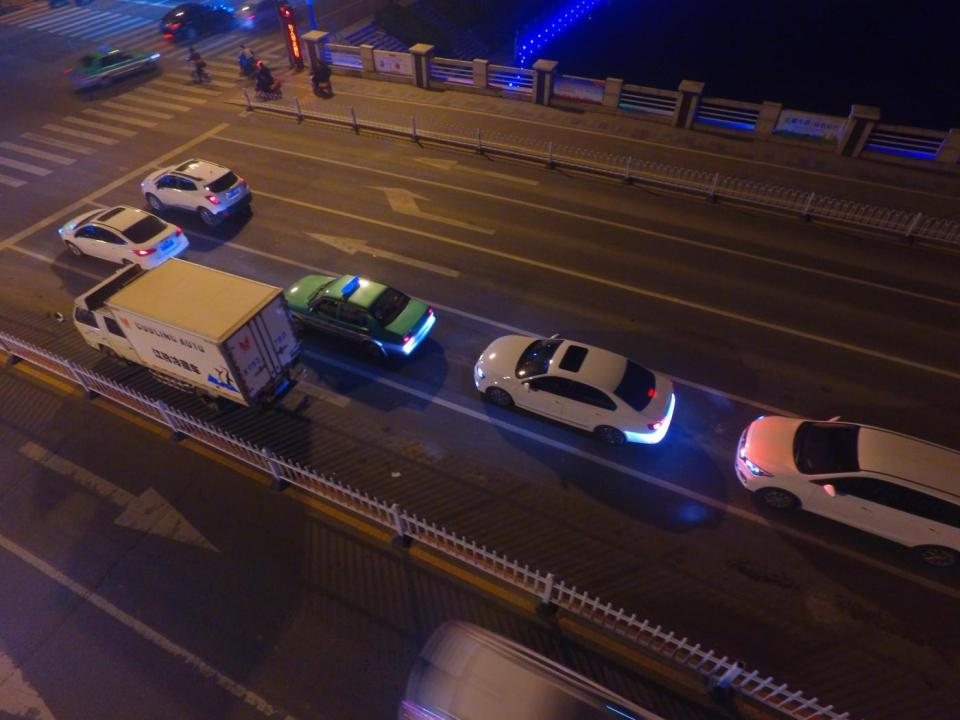car: (733, 408, 960, 569), (473, 333, 676, 445), (281, 270, 437, 357), (55, 204, 192, 274), (141, 157, 255, 224), (62, 43, 162, 89), (157, 1, 237, 42), (236, 1, 297, 33)
truck: (70, 259, 311, 411)
